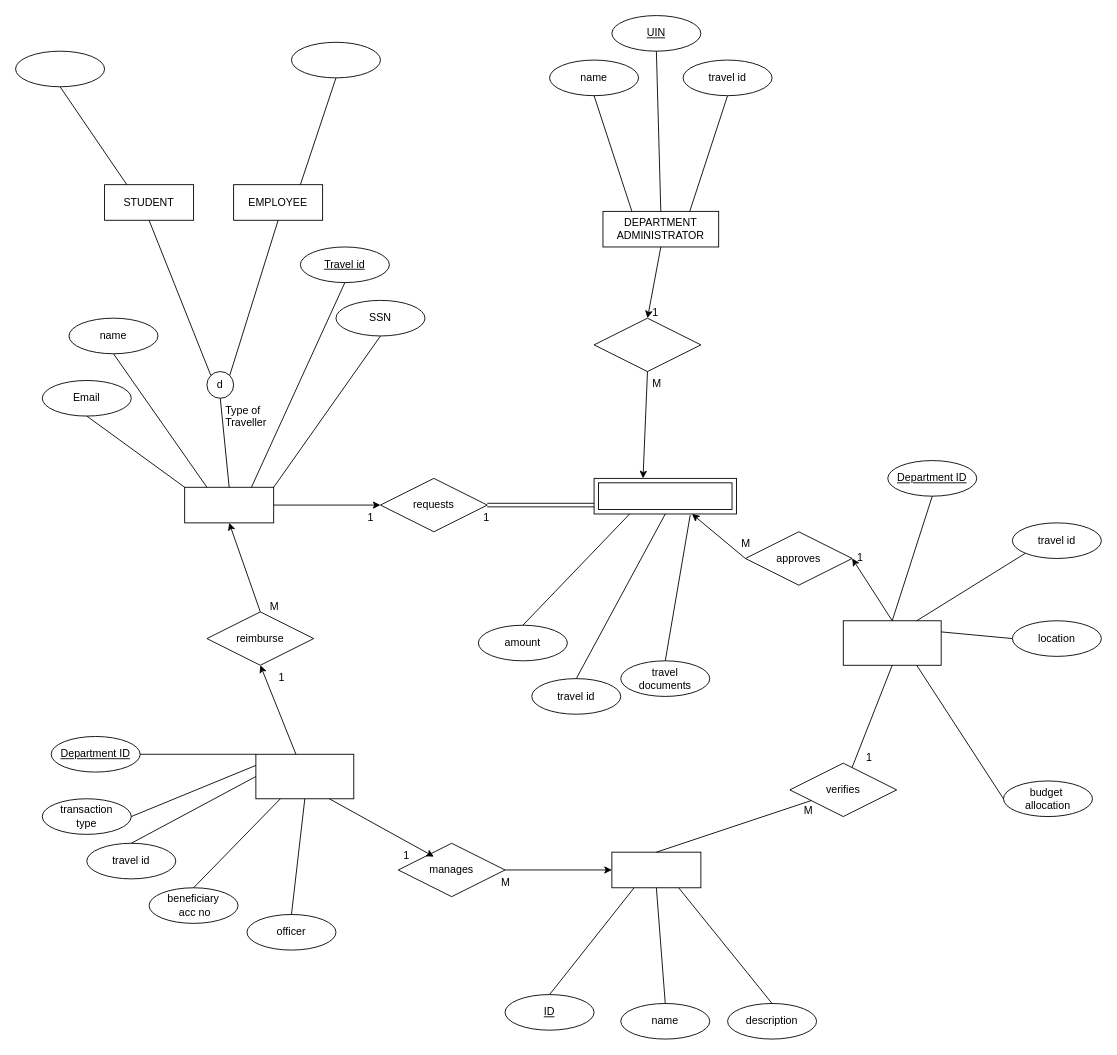
Some shapes in this 1117 by 1055 pixel diagram are drawn without their labels. Each missing label, with the centre of its shape:
audits: [647,344]
Degree Type: [60,68]
DEPARTMENT BUDGETING OFFICE: [891,642]
POLICIES: [656,869]
position: [335,59]
REIMBURSEMENT: [664,495]
TRAVELLER: [229,504]
UNIVERSITY FINANCIAL SERVICES: [304,776]
